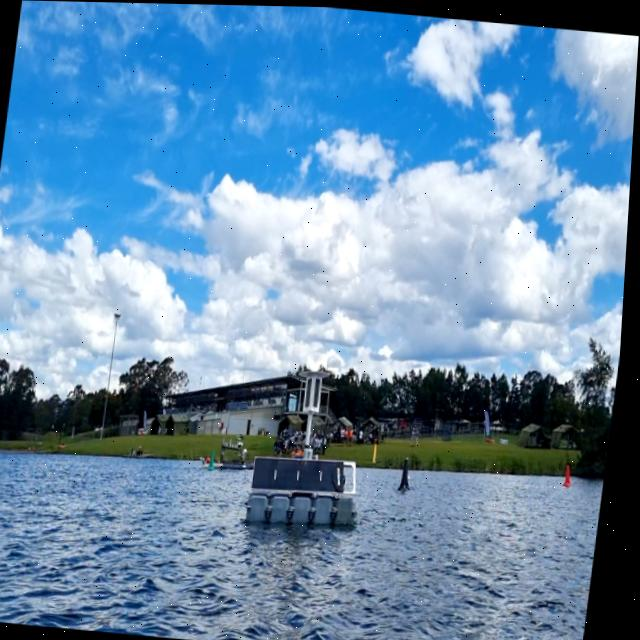led: (308, 375, 326, 408), (315, 374, 327, 409), (308, 376, 318, 407)
